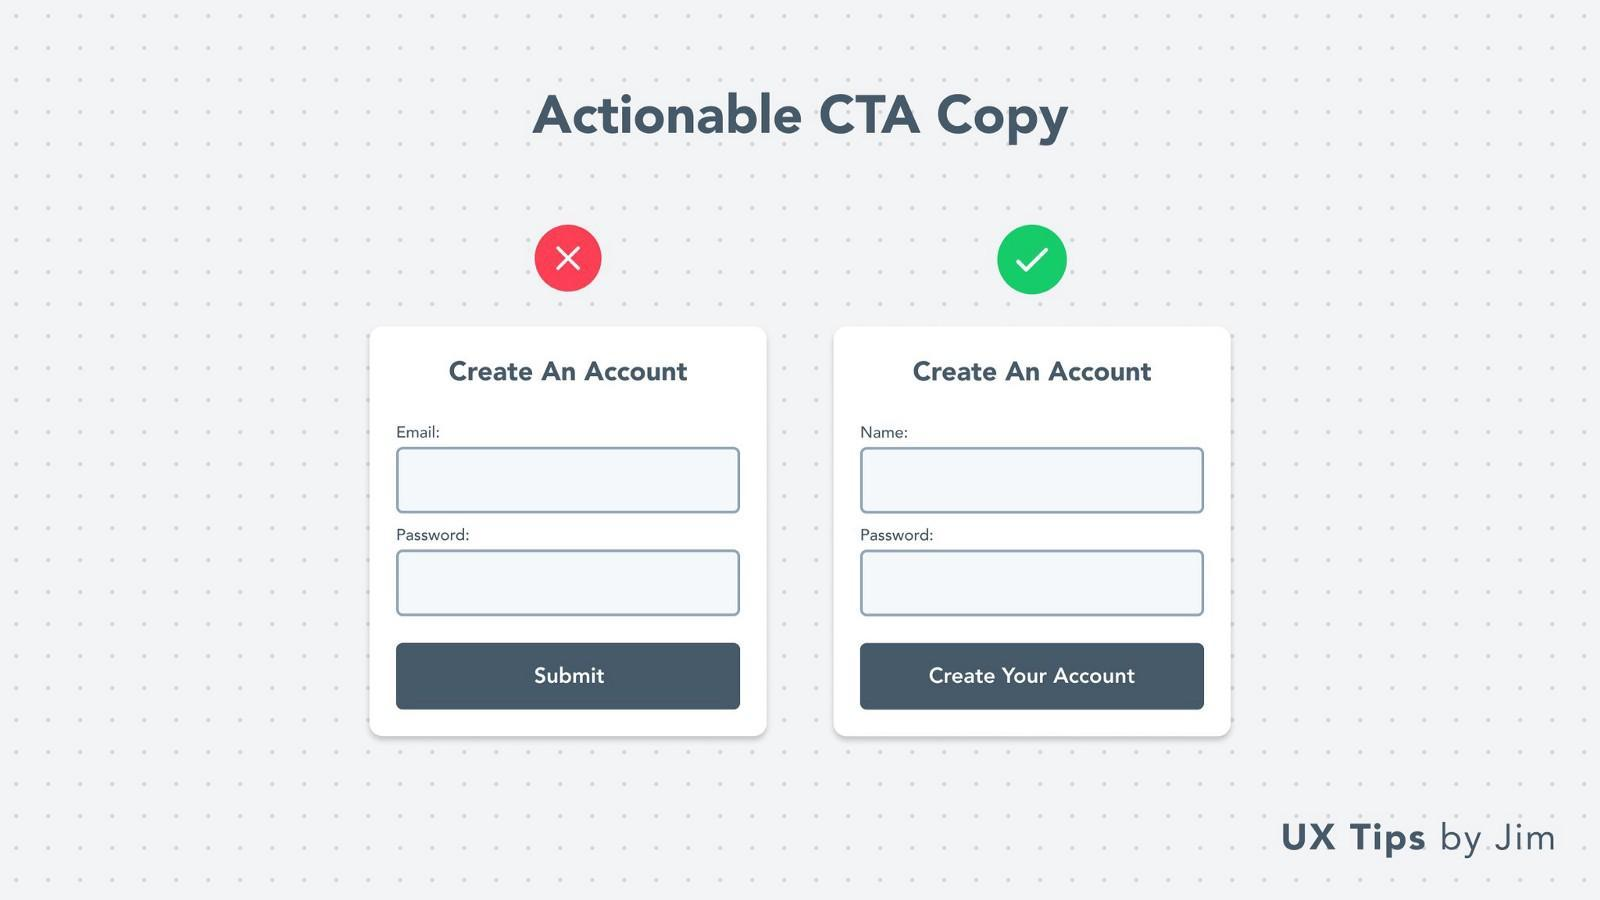button: (862, 642, 1205, 713), (398, 642, 741, 711)
input: (862, 449, 1204, 515), (398, 551, 742, 615), (398, 448, 741, 513), (862, 552, 1204, 616)
label: (391, 524, 477, 548), (854, 527, 947, 544), (388, 422, 445, 444), (857, 424, 905, 442)
